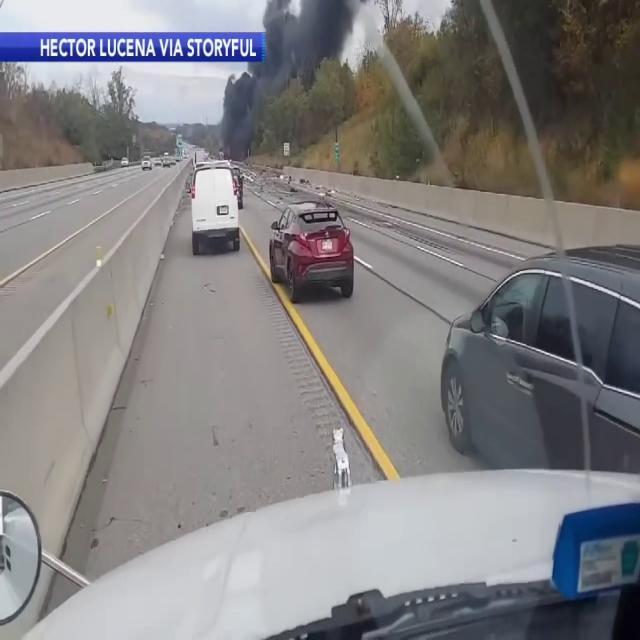Smoke: (218, 0, 372, 155)
